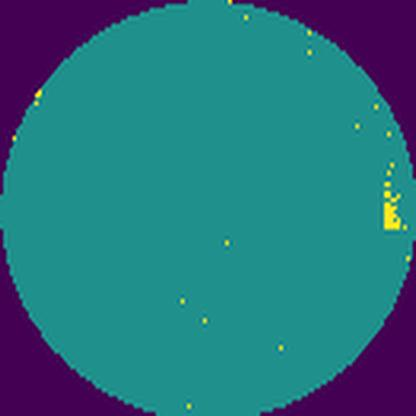Loc: (382, 176, 406, 231)
